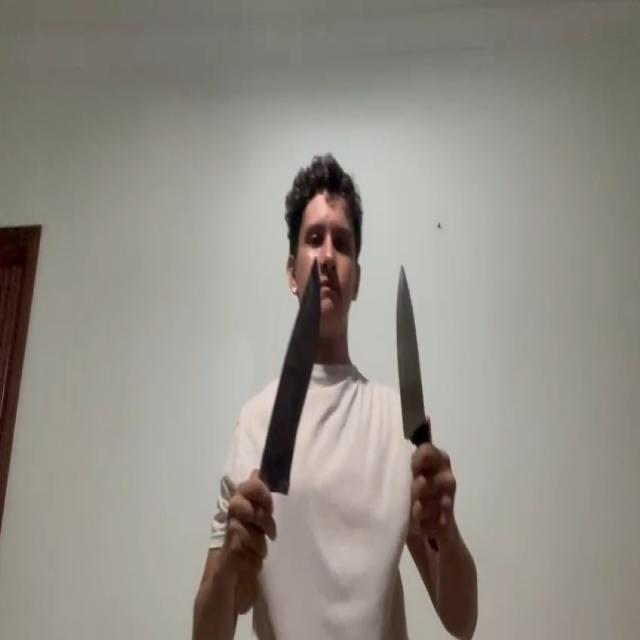knife: (262, 257, 320, 480), (396, 262, 428, 432)
